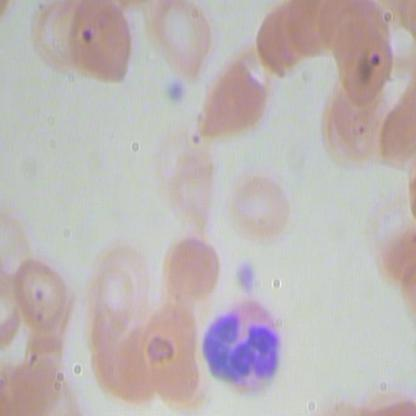Platelets: (233, 260, 261, 299), (162, 75, 190, 114)
RBC: (194, 52, 270, 140), (324, 24, 398, 110), (68, 1, 137, 92), (155, 151, 223, 234), (136, 318, 204, 401), (320, 85, 388, 168), (5, 249, 72, 332), (225, 170, 296, 242), (158, 231, 229, 302), (151, 1, 218, 76), (97, 242, 153, 313), (9, 351, 62, 415), (89, 331, 137, 398), (289, 1, 333, 58)
WBC: (196, 300, 293, 400)
